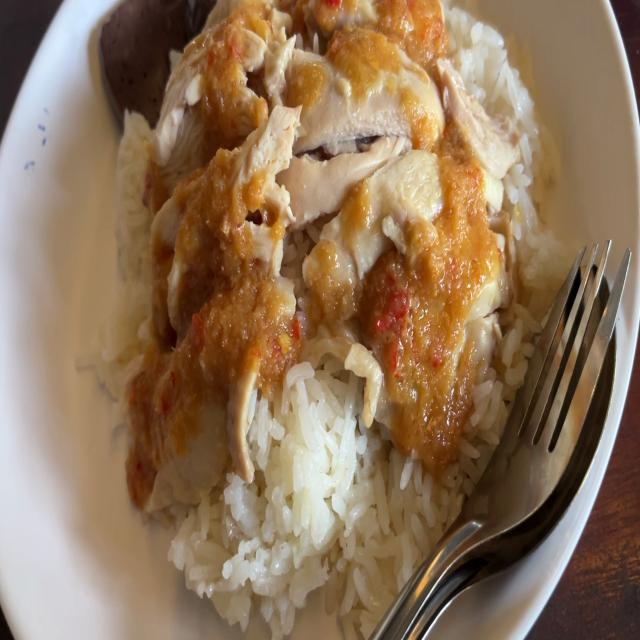chicken_rice: (166, 0, 494, 451)
noodle: (91, 0, 195, 120)
